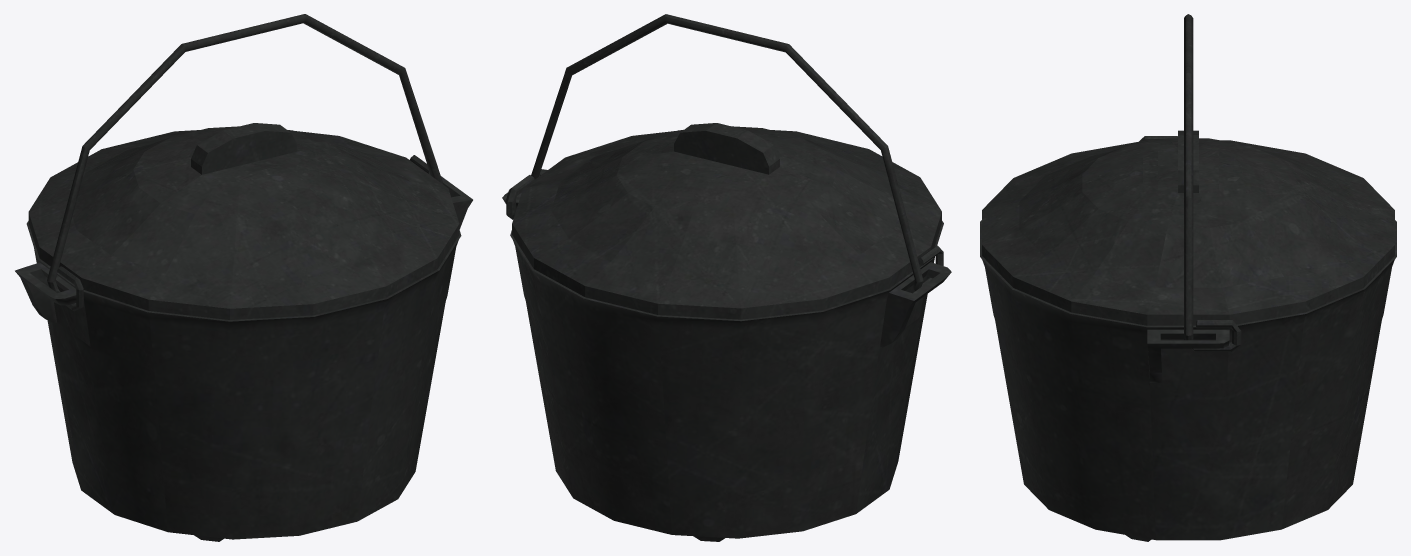
The model's file is Cauldron.fbx.
3 renders of one model, left to right at view 1: azimuth 30°, elevation 25°; view 2: azimuth 150°, elevation 25°; view 3: azimuth 270°, elevation 25°, orthographic. The views are drawn at different scales.
Visible parts, largest first — view 1: Cauldron_Pot, Cauldron_Lid, Cauldron_Handle; view 2: Cauldron_Pot, Cauldron_Lid, Cauldron_Handle; view 3: Cauldron_Pot, Cauldron_Lid, Cauldron_Handle.
Boxes of the visible parts, x1,y1,x2,y2 form: Cauldron_Pot: [15, 176, 472, 541]; Cauldron_Lid: [28, 123, 459, 319]; Cauldron_Handle: [47, 14, 443, 311]; Cauldron_Pot: [502, 169, 951, 541]; Cauldron_Lid: [512, 123, 941, 319]; Cauldron_Handle: [506, 14, 943, 291]; Cauldron_Pot: [980, 220, 1396, 541]; Cauldron_Lid: [982, 130, 1394, 325]; Cauldron_Handle: [1139, 14, 1241, 351].
Bounding box in the file's own units: 15.21 × 15.99 × 13.5.
